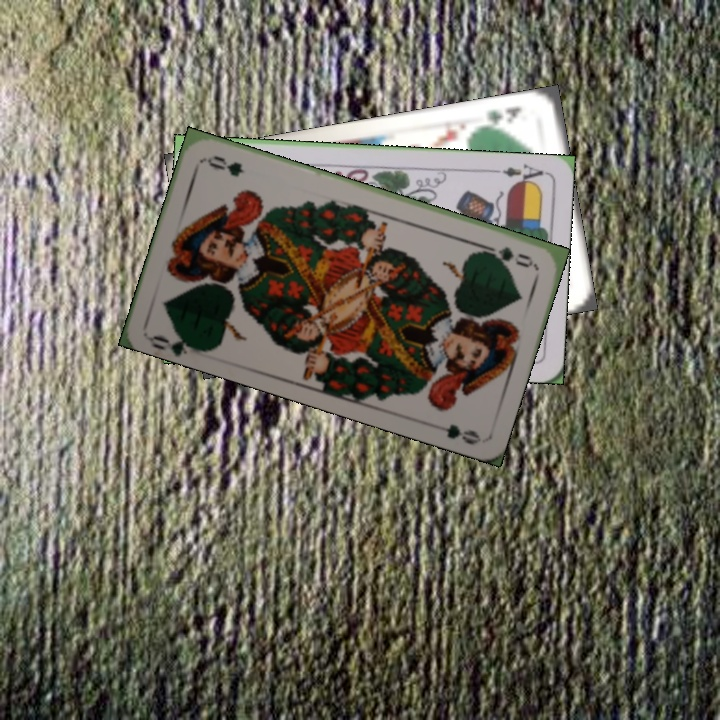EA: (488, 160, 548, 188)
GK: (478, 102, 525, 131)
GO: (145, 324, 205, 357), (478, 241, 537, 271)
